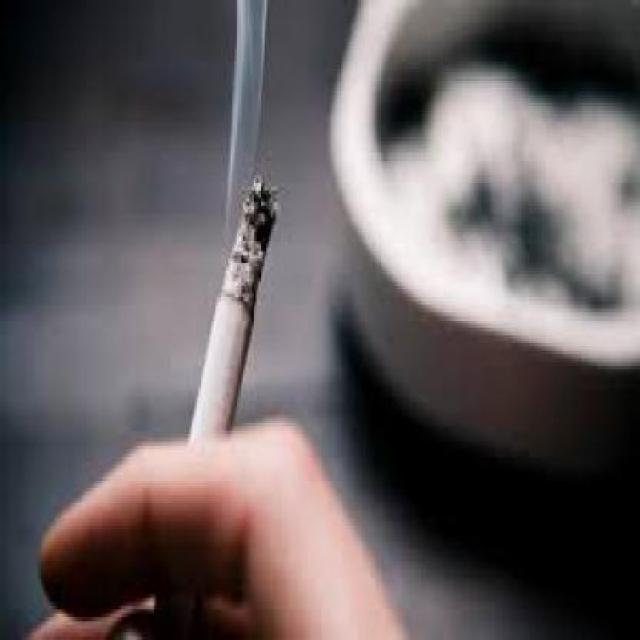smoke: (188, 172, 286, 443)
